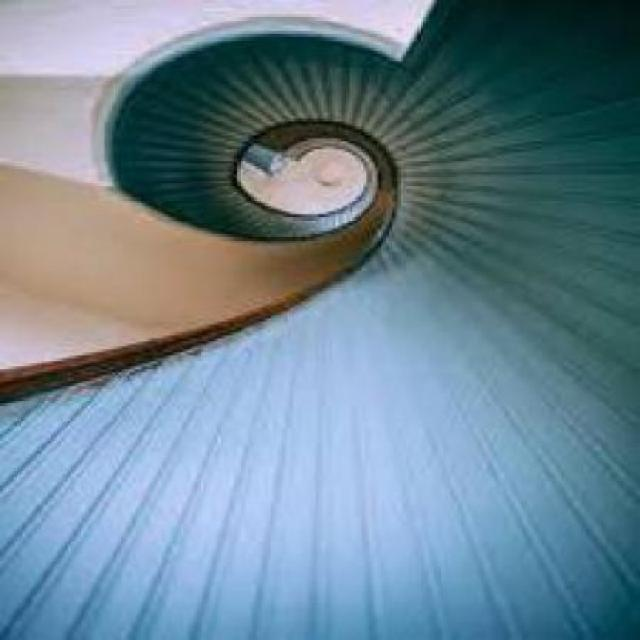stair: (108, 363, 491, 572)
